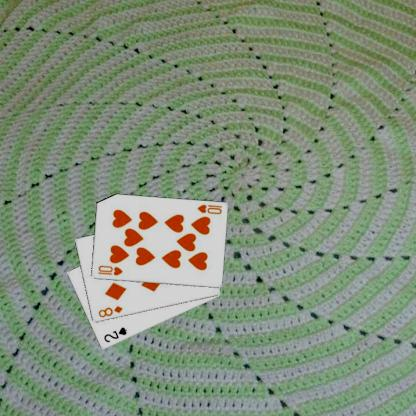10H: (95, 263, 124, 277), (195, 202, 223, 216)
2S: (101, 325, 128, 344)
8D: (96, 303, 124, 319)
